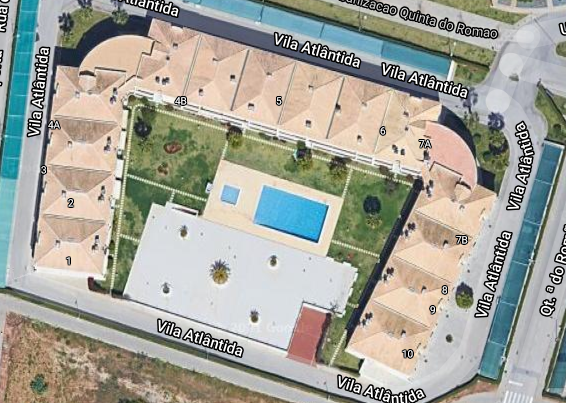pool: (260, 179, 331, 239)
